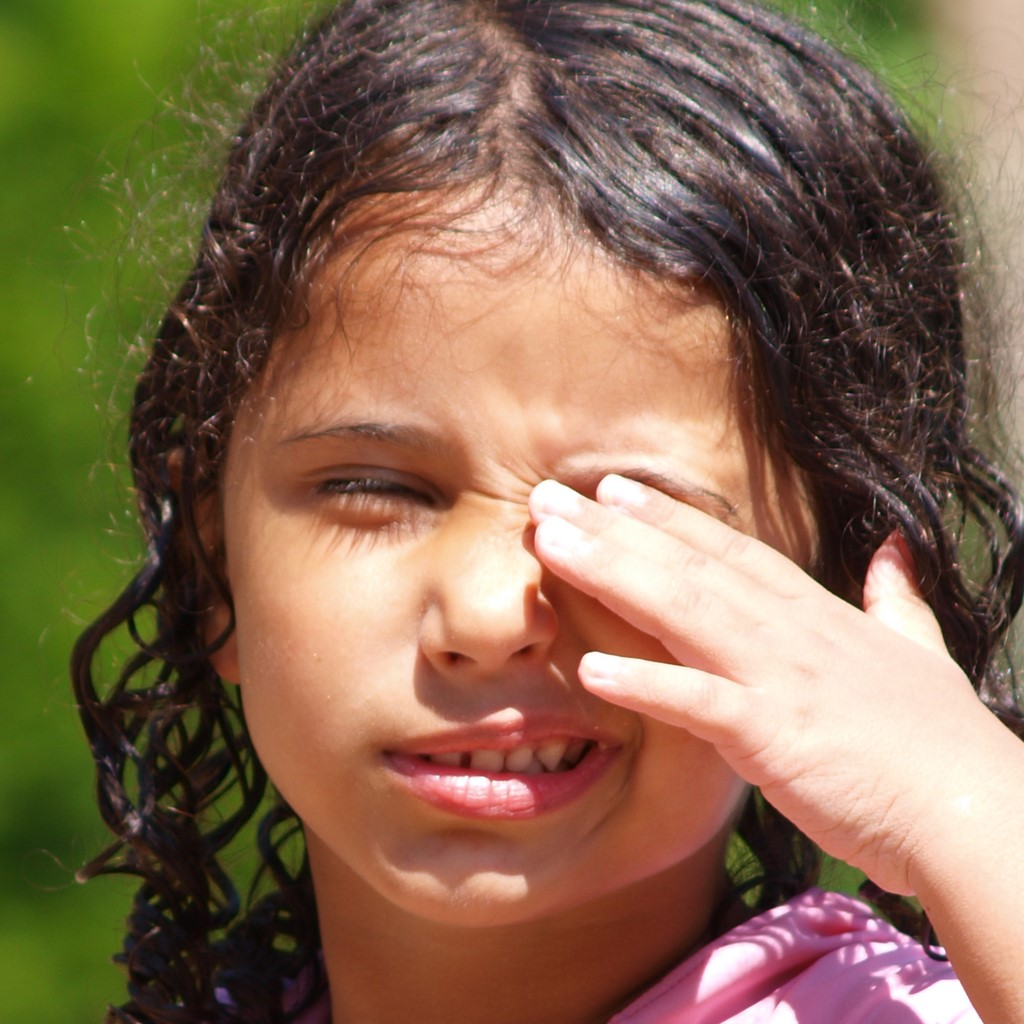sin_mascara: (214, 131, 789, 903)
